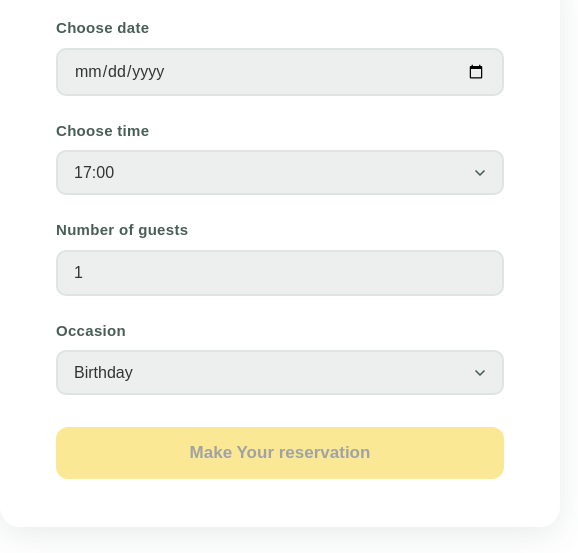
Test case: BookingForm Validation Tests › Submit button is enabled when form is valid
The width and height of the screenshot is (578, 553).
Expected: the button is disabled, left=56, top=427, right=504, bottom=479
Type "2026-10-10" into the date field labelled "Choose date" at (280, 72), box left=56, top=48, right=504, bottom=96
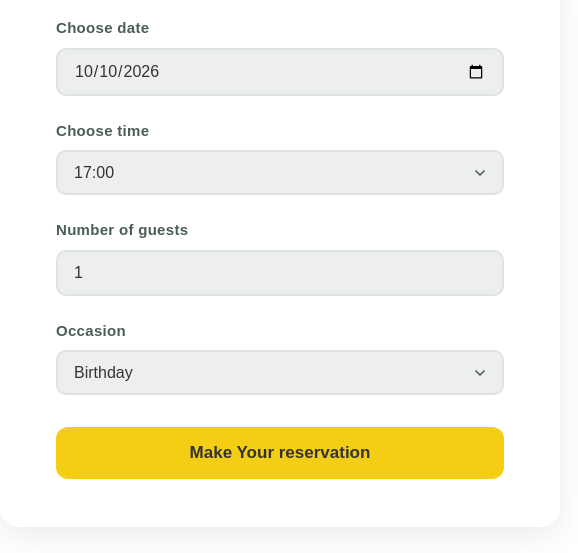
Expected: the button is enabled, left=56, top=427, right=504, bottom=479
